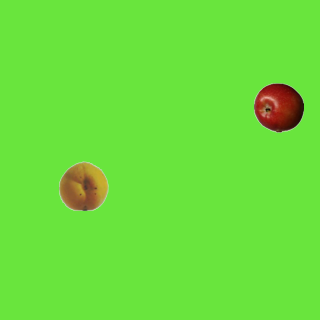Apple Braeburn: (253, 82, 303, 132)
Peach 2: (58, 160, 108, 210)
